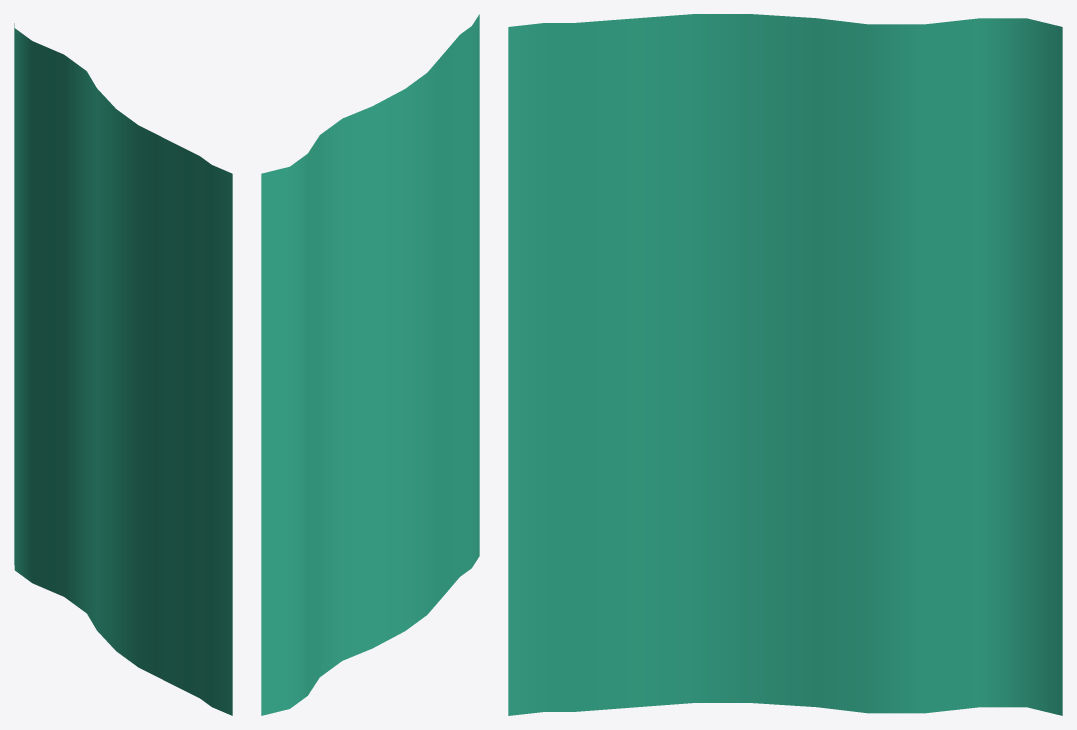
File: D_Machine_Curtain.fbx
3 renders of one model, left to right at view 1: azimuth 30°, elevation 25°; view 2: azimuth 150°, elevation 25°; view 3: azimuth 270°, elevation 25°, orthographic. The views are drawn at different scales.
Visible parts, largest first — view 1: D_Machine_Curtain; view 2: D_Machine_Curtain; view 3: D_Machine_Curtain.
Part boxes in pixels (bbox=[...]): D_Machine_Curtain: bbox=[14, 23, 232, 715]; D_Machine_Curtain: bbox=[261, 14, 479, 715]; D_Machine_Curtain: bbox=[508, 14, 1062, 715].
Size of the model in its own units: 3.61 by 89.24 by 65.06.
